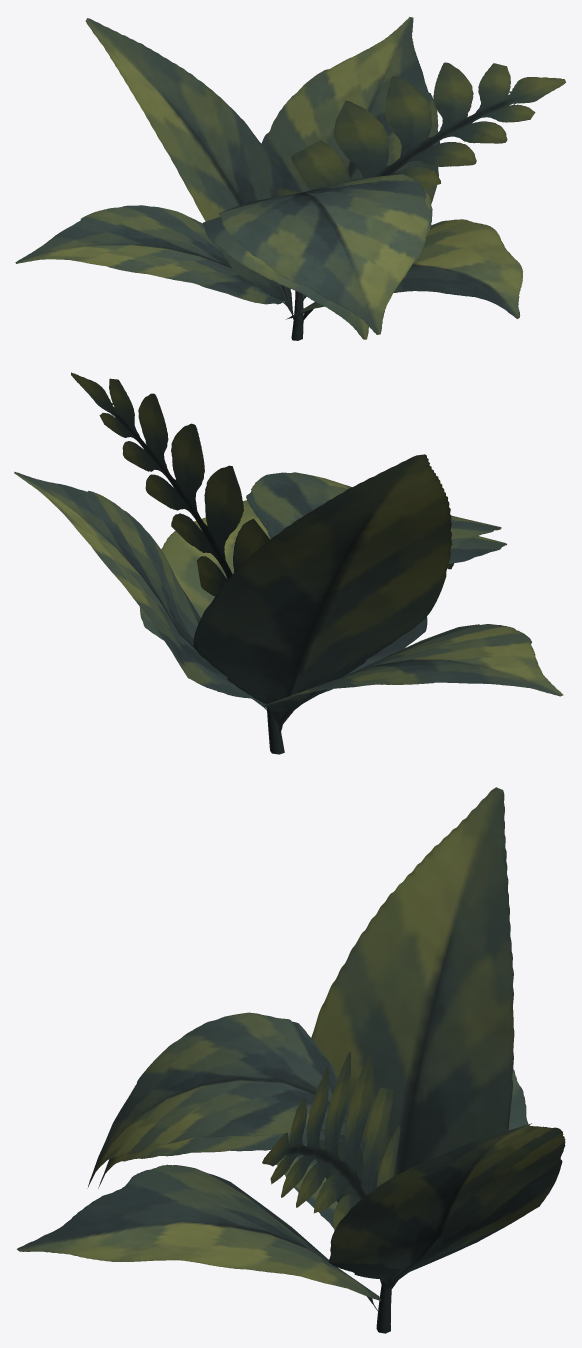
File: SM_FR_BushBroad.fbx
3 views of the same model, one above another, from view 1: azimuth 30°, elevation 25°; view 2: azimuth 150°, elevation 25°; view 3: azimuth 270°, elevation 25° (orthographic). The views are drawn at different scales.
Parts seen in each view (by area): view 1: SM_FR_BushBroad; view 2: SM_FR_BushBroad; view 3: SM_FR_BushBroad.
Part boxes in pixels (x1,y1,x2,y2): SM_FR_BushBroad: (15,17,565,340); SM_FR_BushBroad: (14,372,563,754); SM_FR_BushBroad: (17,787,565,1333).
Bounding box in the file's own units: 1.81 × 1.16 × 1.34.
Materials: 1 (1 with a texture image).
